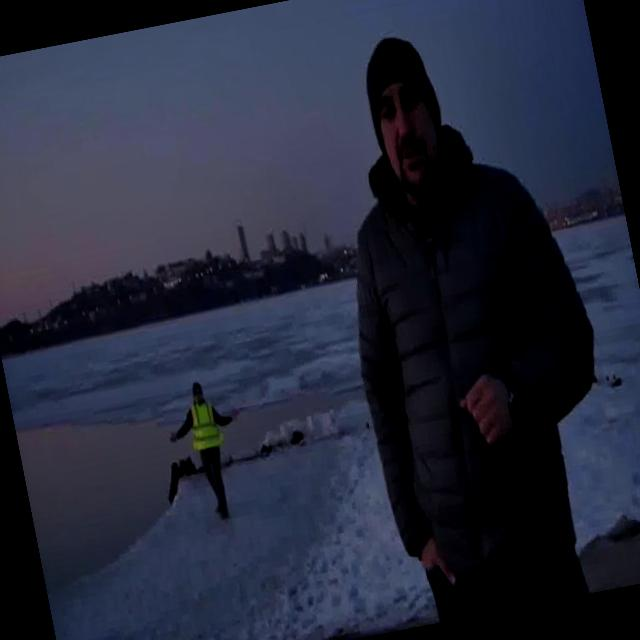vest: (184, 398, 227, 456)
